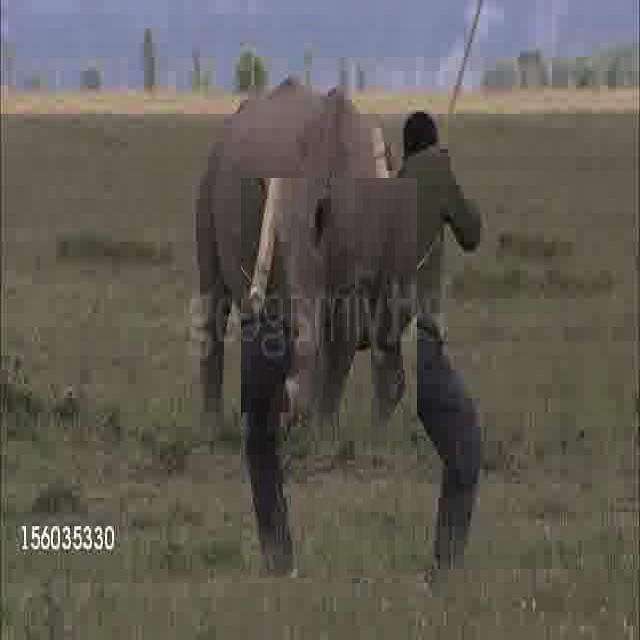poacher: (242, 178, 418, 578)
weapon: (75, 210, 308, 294)
